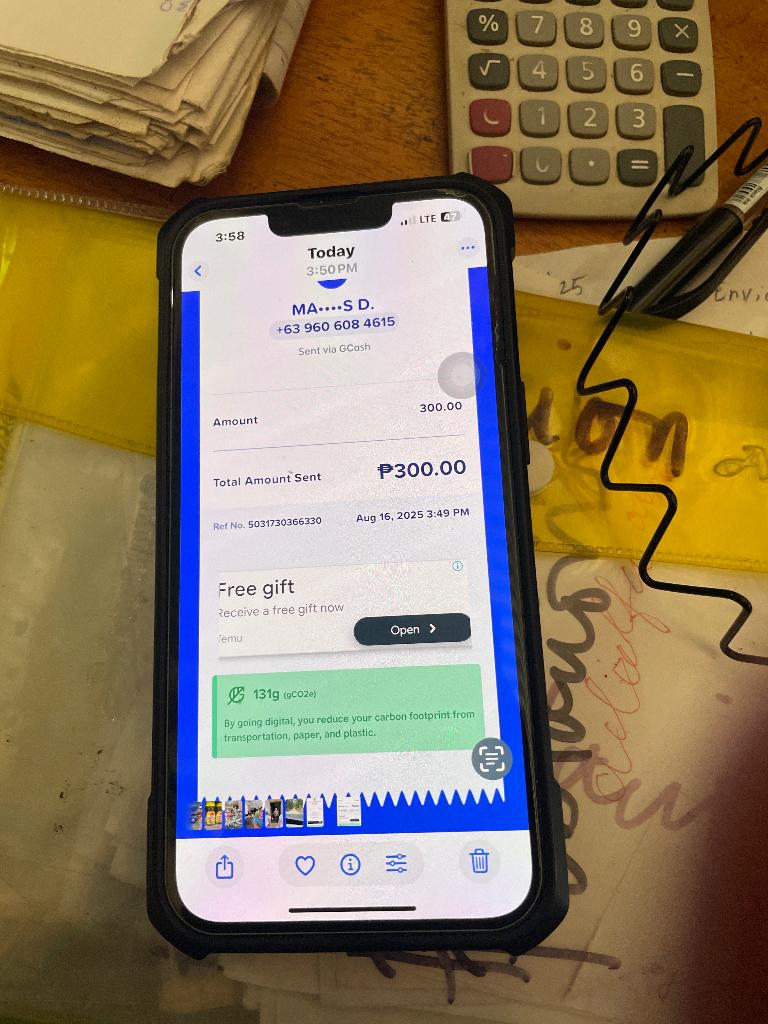Receipt: (174, 268, 525, 837)
